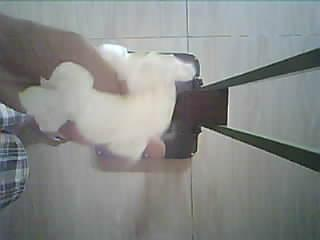paper: (20, 44, 193, 159)
